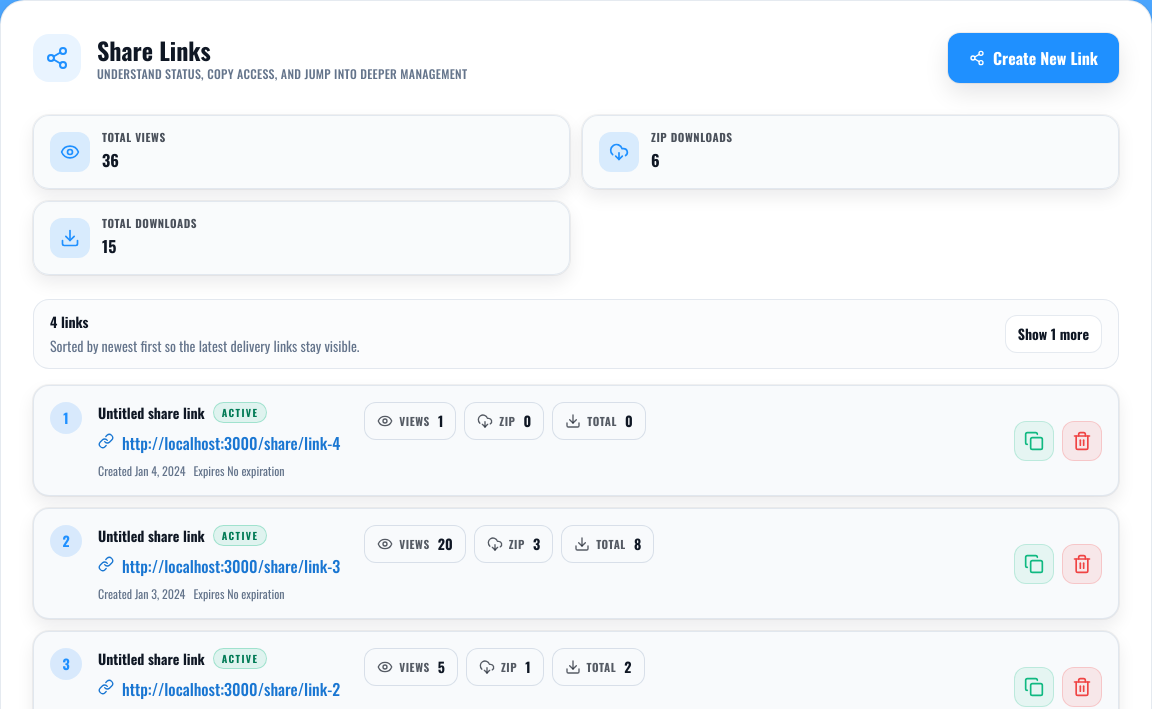
Test case: ShareLinksSection › collapses long lists until the user asks to see more
Click the button "Show 1 more" at coordinates (1053, 334), box [1005,315,1102,353]
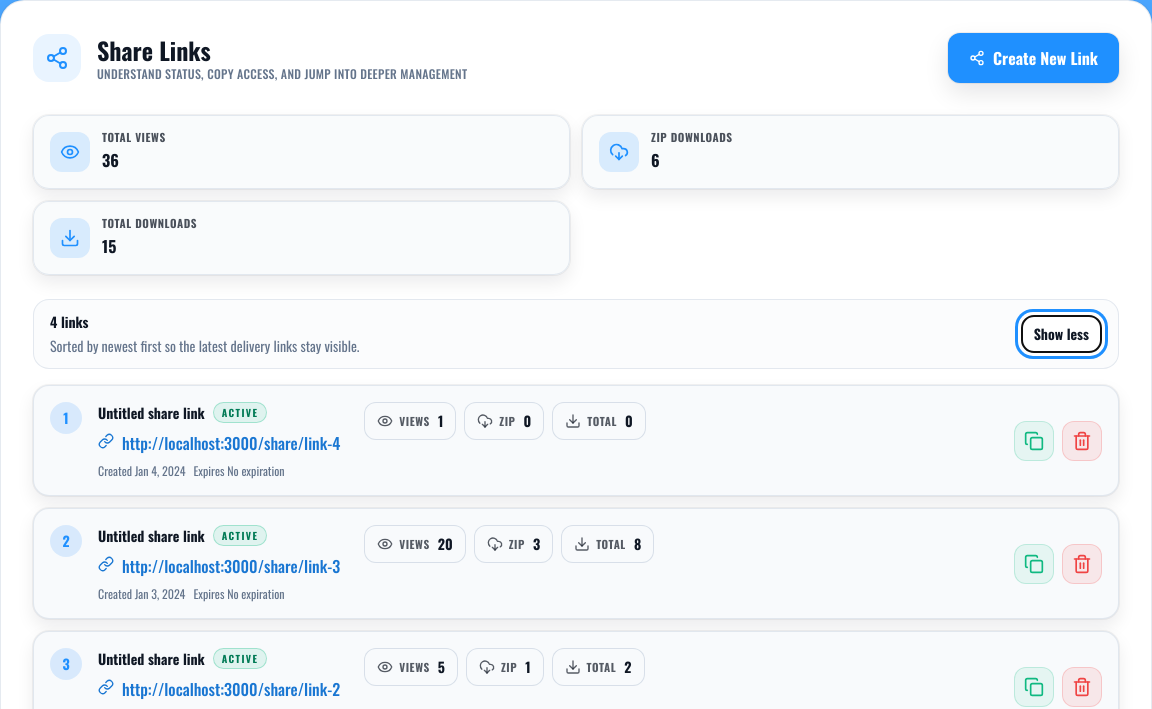
Expected: the button "Show less" is shown, [1021,315,1102,353]
